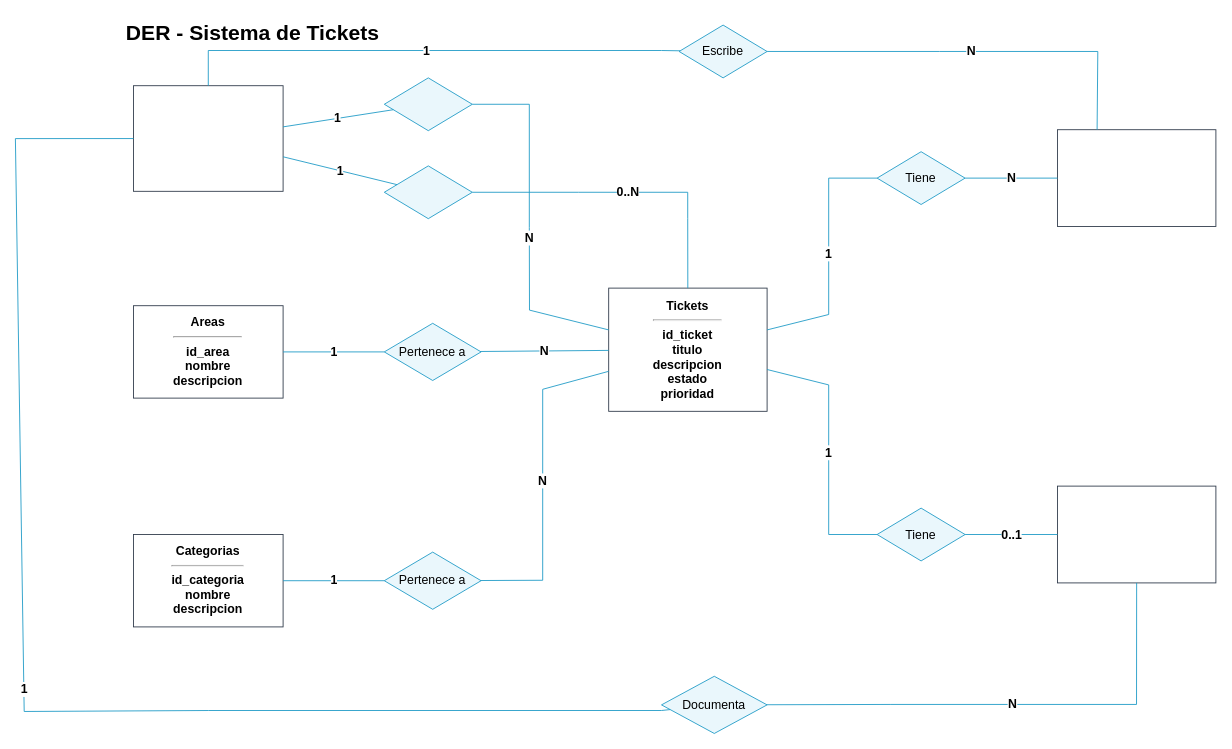
The diagram is 1232 pixels wide and 749 high, and some of its shapes have lost their labels. Here are the shapes that lost their labels. From the top down, the centre of each, then its label:
pixel 427 104: Crea
pixel 208 138: Usuarios id_usuario nombre email rol
pixel 427 192: Atiende
pixel 1136 178: Comentarios id_comentario contenido es_interno
pixel 1136 534: Soluciones id_solucion resumen detalle
